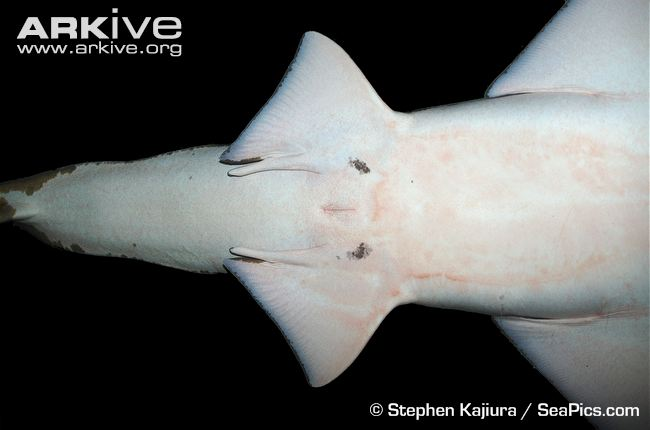shark: (16, 27, 643, 415)
